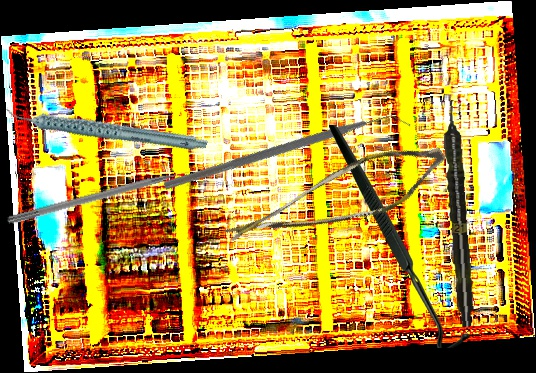Chopper: (161, 26, 413, 285)
Handpiece: (4, 64, 209, 190), (441, 99, 477, 328)
Hook Surgical: (329, 125, 470, 348)
Micro Scissor: (223, 110, 454, 291)
Pusher: (6, 164, 204, 227)
